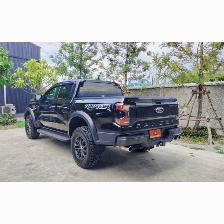NON-EV: (23, 77, 182, 171)
